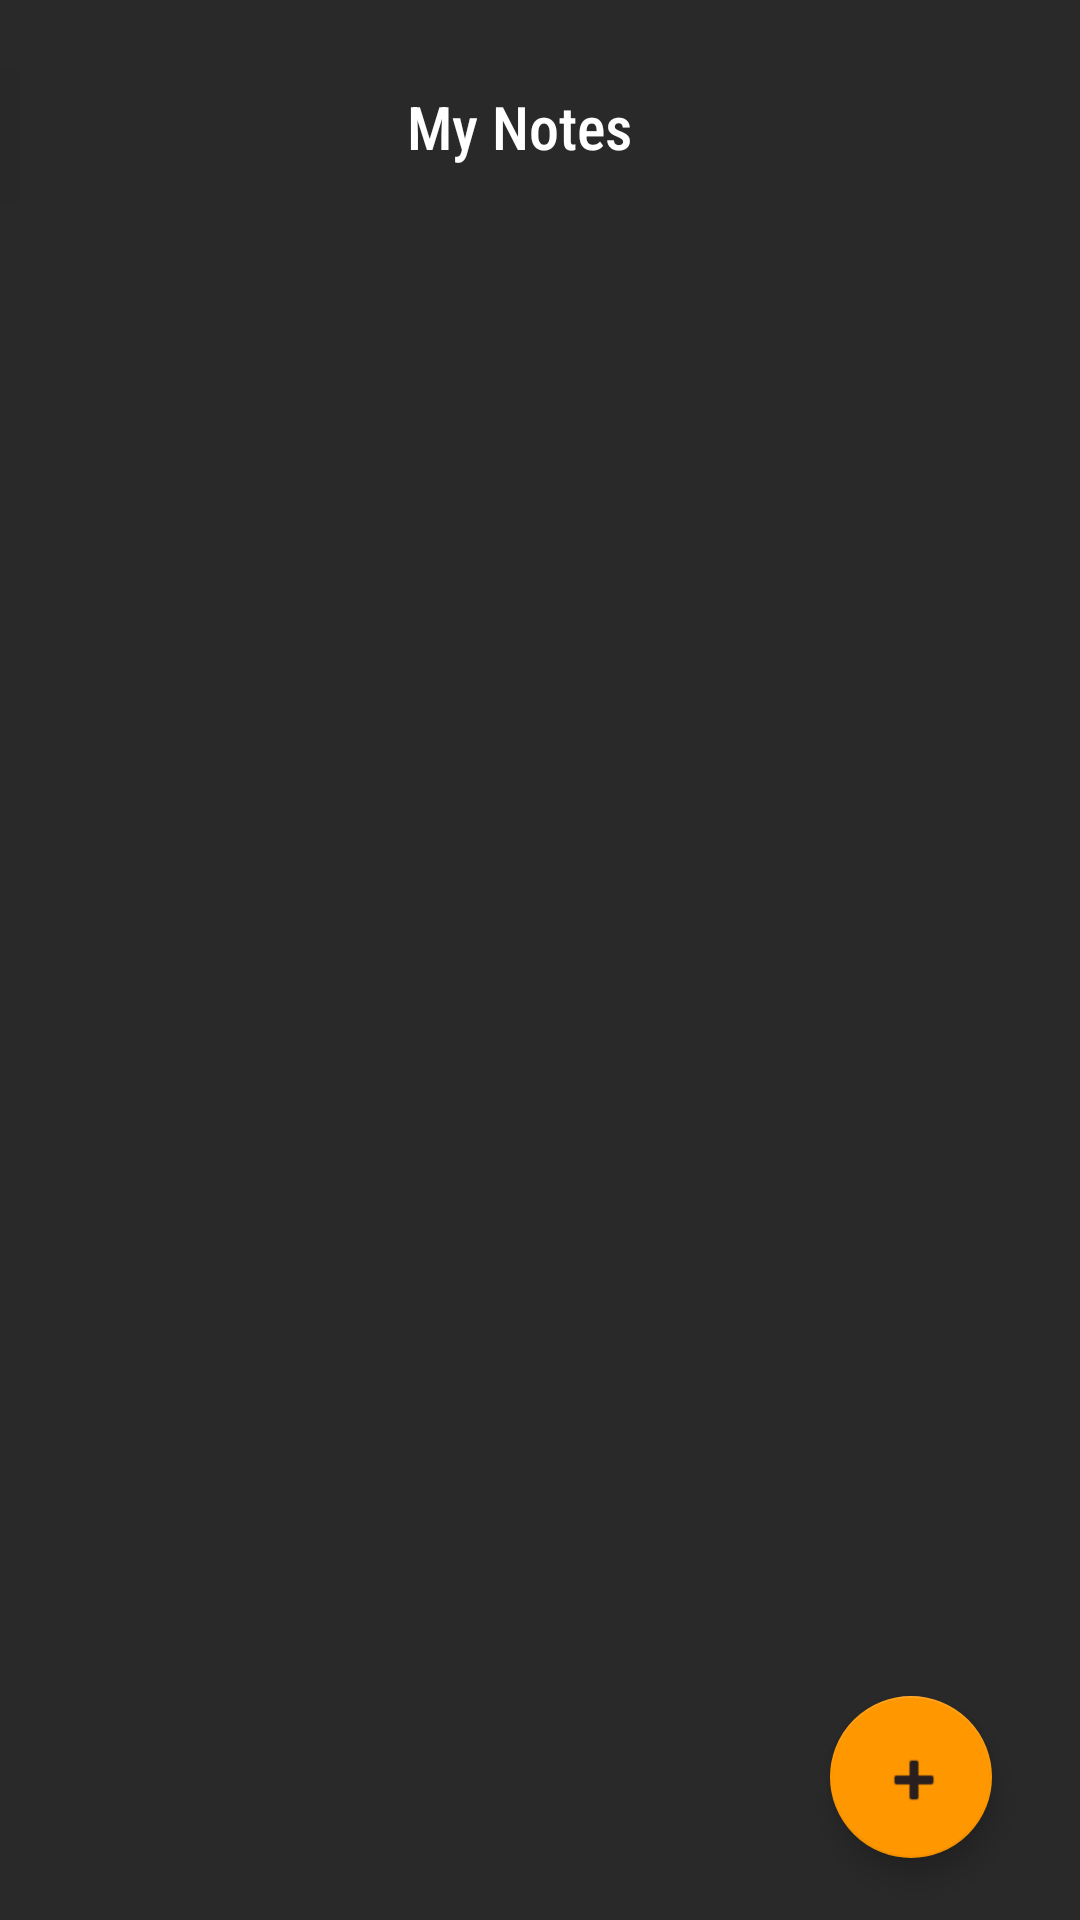

Locate icon controls on the screen. Image size 1080px x 1920px, boxes as (x1, y1, x2, y2).
create: (830, 1696, 992, 1858)
